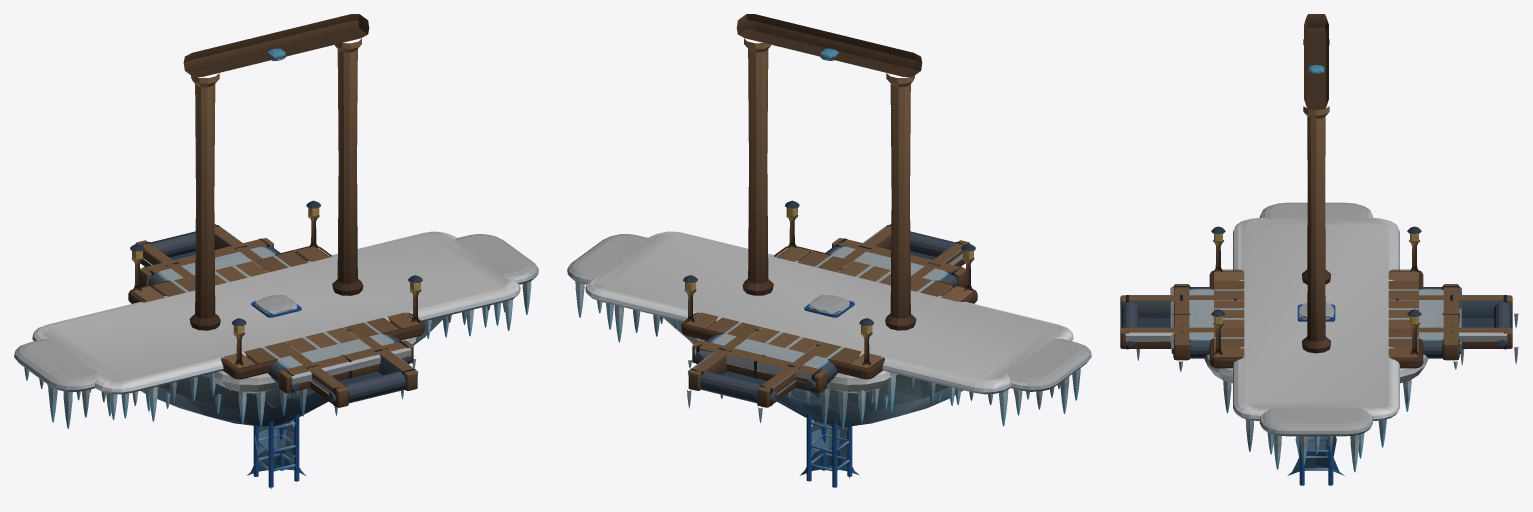
File: glacier-4-Bk1AMEIy.glb
3 views of the same model, side by side, from view 1: azimuth 30°, elevation 25°; view 2: azimuth 150°, elevation 25°; view 3: azimuth 270°, elevation 25° (orthographic). The views are drawn at different scales.
Parts seen in each view (by area): view 1: block_26x2x9#0, pressFrame_7x6x4x7#0, pad_12x2x12#1, block_30x2x6_grate#1, belt_5x1.5x22x0#0, belt_8x1.5x16x1#0, block_7x2x16_ice#0, truss_10#0, support_0_round#0; view 2: block_26x2x9#0, pressFrame_7x6x4x7#0, pad_12x2x12#1, belt_5x1.5x22x0#0, block_30x2x6_grate#1, belt_8x1.5x16x1#0, block_7x2x16_ice#0, truss_10#0, support_0_round#0; view 3: block_26x2x9#0, pad_12x2x12#1, pressFrame_7x6x4x7#0, belt_5x1.5x22x0#0, block_30x2x6_grate#1, belt_8x1.5x16x1#0, block_7x2x16_ice#0, truss_10#0, support_0_round#0.
Part boxes in pixels (x1=…): block_26x2x9#0: x1=32, y1=231, x2=520, y2=426; pressFrame_7x6x4x7#0: x1=183, y1=14, x2=369, y2=330; pad_12x2x12#1: x1=128, y1=200, x2=424, y2=426; block_30x2x6_grate#1: x1=14, y1=234, x2=538, y2=428; belt_5x1.5x22x0#0: x1=135, y1=224, x2=418, y2=415; belt_8x1.5x16x1#0: x1=140, y1=238, x2=415, y2=395; block_7x2x16_ice#0: x1=157, y1=246, x2=394, y2=399; truss_10#0: x1=251, y1=294, x2=301, y2=489; support_0_round#0: x1=247, y1=420, x2=305, y2=475; block_26x2x9#0: x1=585, y1=231, x2=1073, y2=426; pressFrame_7x6x4x7#0: x1=736, y1=14, x2=922, y2=330; pad_12x2x12#1: x1=681, y1=200, x2=977, y2=430; belt_5x1.5x22x0#0: x1=687, y1=224, x2=970, y2=422; block_30x2x6_grate#1: x1=567, y1=234, x2=1091, y2=415; belt_8x1.5x16x1#0: x1=688, y1=238, x2=965, y2=404; block_7x2x16_ice#0: x1=711, y1=246, x2=948, y2=397; truss_10#0: x1=804, y1=294, x2=854, y2=487; support_0_round#0: x1=800, y1=420, x2=859, y2=475; block_26x2x9#0: x1=1233, y1=218, x2=1399, y2=458; pad_12x2x12#1: x1=1204, y1=226, x2=1428, y2=413; pressFrame_7x6x4x7#0: x1=1302, y1=14, x2=1330, y2=353; belt_5x1.5x22x0#0: x1=1120, y1=295, x2=1518, y2=365; block_30x2x6_grate#1: x1=1259, y1=202, x2=1372, y2=472; belt_8x1.5x16x1#0: x1=1170, y1=284, x2=1462, y2=371; block_7x2x16_ice#0: x1=1189, y1=289, x2=1443, y2=347; truss_10#0: x1=1297, y1=302, x2=1335, y2=485; support_0_round#0: x1=1287, y1=436, x2=1344, y2=475.
Size of the model in its own units: 30.36 by 26.65 by 22.34.
